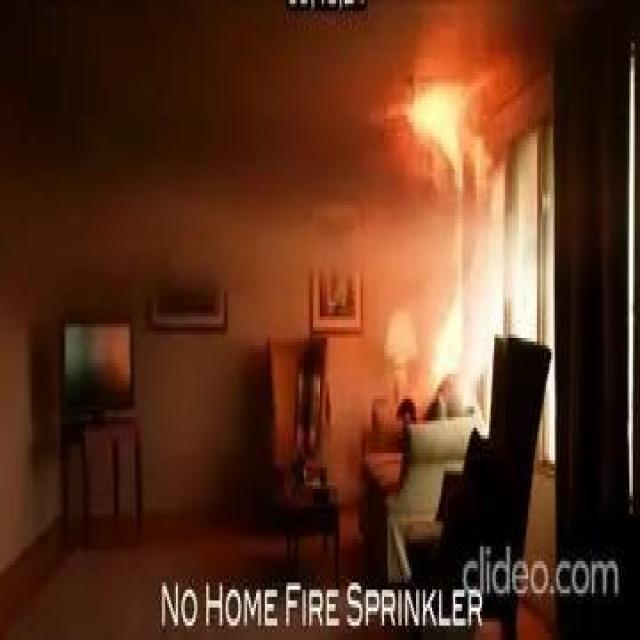smoke: (404, 72, 464, 190), (430, 273, 462, 374)
